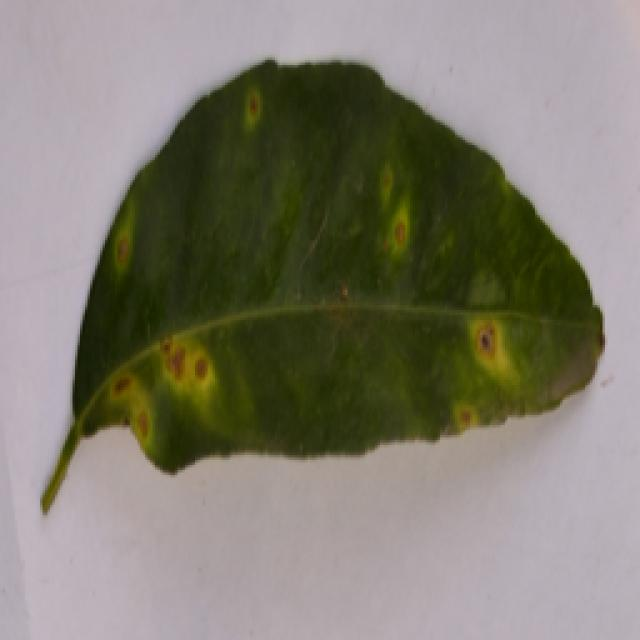canker: (25, 42, 610, 558)
